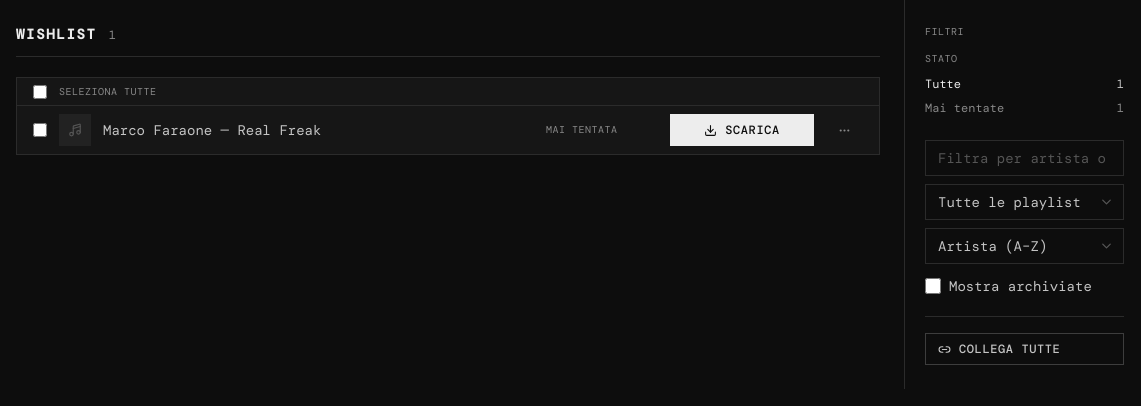
wishlist: stato «in coda» dalla coda › dopo «Scarica» la coda viene riletta, senza aspettare il poll dei job
What coordinates should you click on to do the following:
click the button "Scarica"
I would click on:
 (742, 130)
Its box is [670,114,814,146].
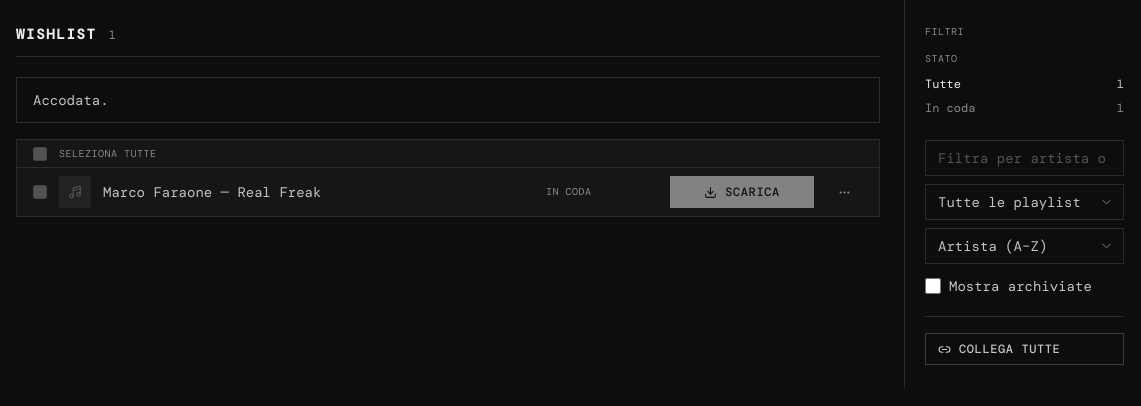
Result: the text "in coda" is shown at [546,185,592,198]
